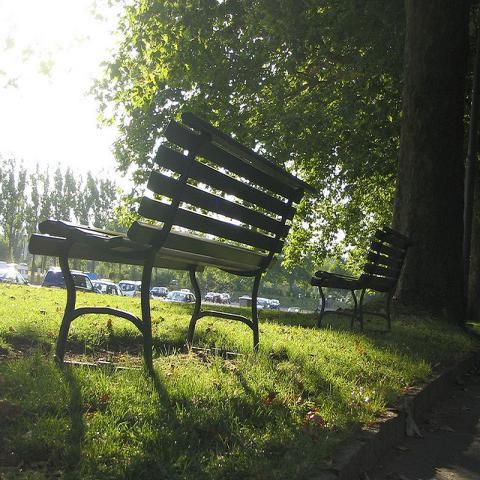car: (39, 266, 94, 292), (90, 279, 124, 295), (118, 280, 141, 297), (171, 292, 197, 303), (151, 286, 168, 296), (213, 292, 225, 304), (264, 298, 280, 307), (256, 296, 267, 309), (222, 292, 232, 304), (204, 292, 215, 302), (287, 308, 303, 313)
